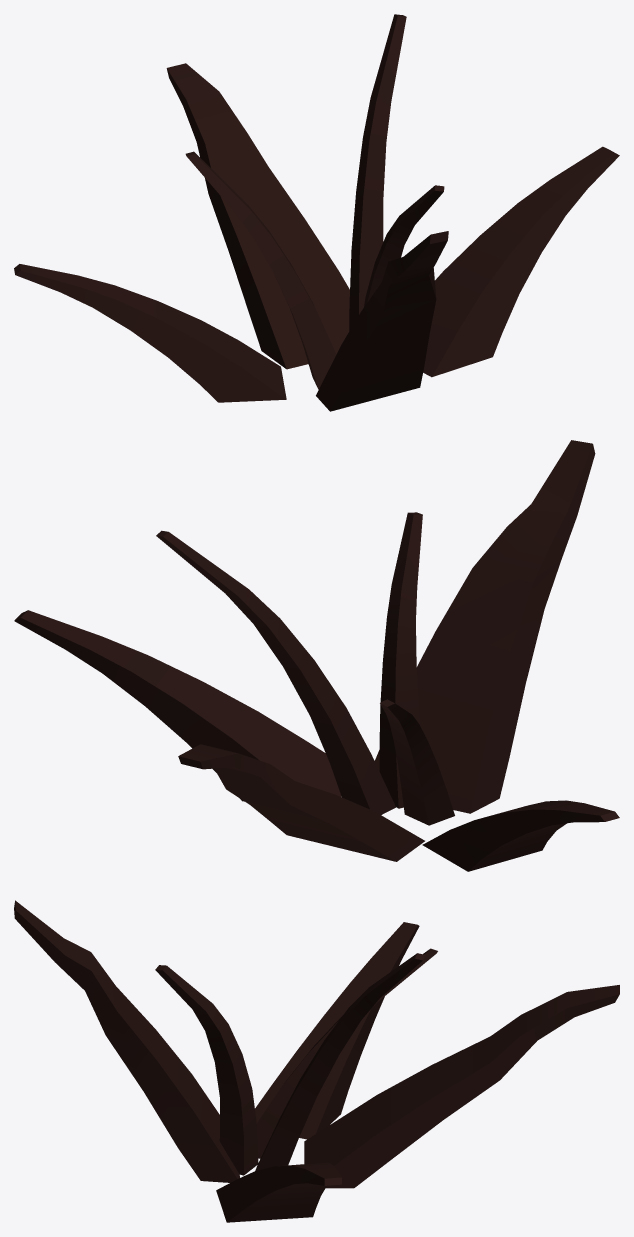
Rendered from lowpolygrass_RJ_2609.fbx.
3 renders of one model, top to bottom at view 1: azimuth 30°, elevation 25°; view 2: azimuth 150°, elevation 25°; view 3: azimuth 270°, elevation 25°, orthographic. The views are drawn at different scales.
Parts seen in each view (by area): view 1: Grass_RJ_2609; view 2: Grass_RJ_2609; view 3: Grass_RJ_2609.
Part boxes in pixels (x1=…): Grass_RJ_2609: x1=14, y1=14, x2=619, y2=411; Grass_RJ_2609: x1=14, y1=440, x2=619, y2=871; Grass_RJ_2609: x1=14, y1=900, x2=619, y2=1222.
Bounding box in the file's own units: 191 × 87.89 × 179.
